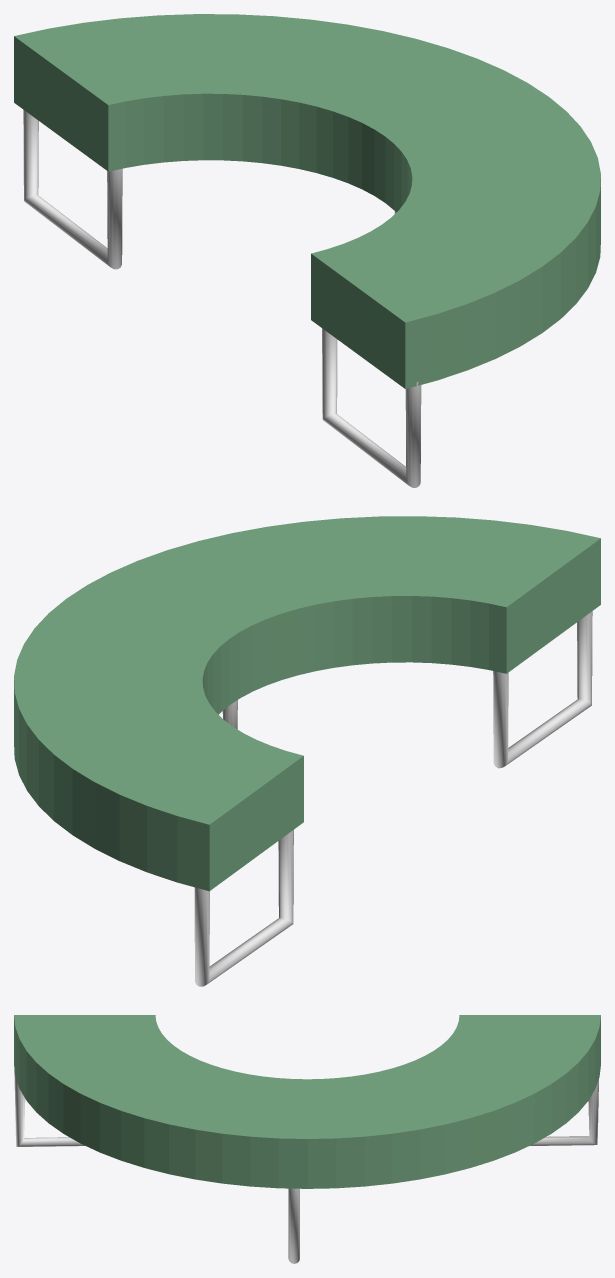
File: chair_circle.glb
3 views of the same model, one above another, from view 1: azimuth 30°, elevation 25°; view 2: azimuth 150°, elevation 25°; view 3: azimuth 270°, elevation 25° (orthographic). The views are drawn at different scales.
Parts seen in each view (by area): view 1: chair_circle; view 2: chair_circle; view 3: chair_circle.
Boxes of the visible parts, <box> form: chair_circle: <box>14,14,600,487</box>; chair_circle: <box>14,516,600,986</box>; chair_circle: <box>14,1015,600,1263</box>.
Size of the model in its own units: 2 by 0.954 by 4.
